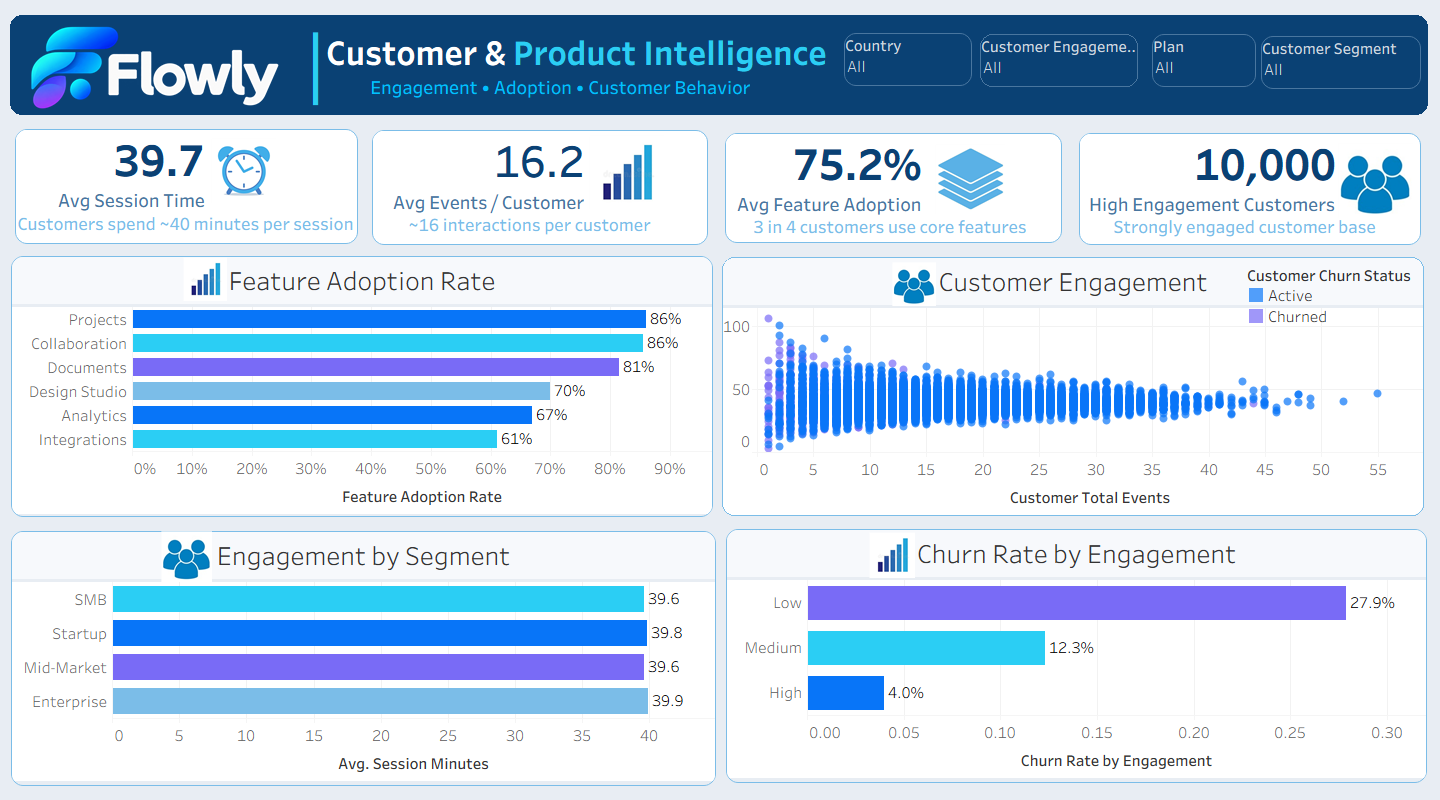

The page's visual inventory and layout, read from the dashboard file:
{"tool":"tableau","page":{"name":"Flowly Product Pulse","canvas":[1440,800],"ordinal":1},"visuals":[{"type":"image","param":"C:/Users/sneha/Downloads/Glossy Flowly Gradient Logo.png","box":[21.4,16,276.8,97]},{"type":"text","box":[291.4,19,121.5,87]},{"type":"text","box":[274,26,605,51]},{"type":"filter","title":"Customer Engagement","param":"[federated.186rmt7171jtv319xoaxd0jz2uva].[none:country:nk]","box":[844,33,128,53]},{"type":"filter","title":"Customer Engagement","param":"[federated.186rmt7171jtv319xoaxd0jz2uva].[none:Calculation_1554211411132417:nk]","box":[980,34,158,53]},{"type":"filter","title":"Customer Engagement","param":"[federated.186rmt7171jtv319xoaxd0jz2uva].[none:plan:nk]","box":[1152,34,104,53]},{"type":"filter","title":"Customer Engagement","param":"[federated.186rmt7171jtv319xoaxd0jz2uva].[none:customer_segment:nk]","box":[1261,36,160,53]},{"type":"text","box":[366.8,46,488.2,82]},{"type":"worksheet","title":"Avg Session Time","mark":"Text","box":[15,129,343,115]},{"type":"worksheet","title":"Avg Events per Customer","mark":"Text","box":[372,130,336,115]},{"type":"worksheet","title":"Avg Feature Adoption","mark":"Text","box":[725,133,337,110]},{"type":"worksheet","title":"High Engagement Customers","mark":"Text","box":[1079,133,342,112]},{"type":"image","param":"C:/Users/sneha/Downloads/P8.jpeg","box":[589,135,87,75]},{"type":"image","param":"C:/Users/sneha/Downloads/P6.jpeg","box":[211,138,77,65]},{"type":"image","param":"C:/Users/sneha/Downloads/P1.jpeg","box":[1338,143,75,76]},{"type":"image","param":"C:/Users/sneha/Downloads/P7.jpeg","box":[935,144,94,70]},{"type":"text","box":[405,209,249,30]},{"type":"text","box":[750,211,280,30]},{"type":"text","box":[1110,211,270,30]},{"type":"text","box":[14,212,340,23]},{"type":"worksheet","title":"Feature Adoption Rate","mark":"Automatic","rows":["feature_name"],"cols":["Calculation_0154532795826178"],"box":[11,256,702,261]},{"type":"image","param":"C:/Users/sneha/Downloads/P8.jpeg","box":[183,257,44,45]},{"type":"worksheet","title":"Customer Engagement","mark":"Circle","rows":["Calculation_0154532800147460"],"cols":["Calculation_0154532799500291"],"box":[722,257,702,259]},{"type":"image","param":"C:/Users/sneha/Downloads/P1.jpeg","box":[892,262,46,44]},{"type":"legend","title":"Customer Engagement","param":"[federated.186rmt7171jtv319xoaxd0jz2uva].[none:Calculation_0154532801515525:nk]","box":[1246,263,176,66]},{"type":"worksheet","title":"Churn Rate by Engagement","mark":"Automatic","rows":["Calculation_1554211411132417"],"cols":["Calculation_1554211422593027"],"box":[726,529,701,254]},{"type":"worksheet","title":"Engagement by Segment","mark":"Automatic","rows":["customer_segment"],"cols":["session_minutes"],"box":[11,531,705,255]},{"type":"image","param":"C:/Users/sneha/Downloads/P1.jpeg","box":[161,531,51,51]},{"type":"image","param":"C:/Users/sneha/Downloads/P8.jpeg","box":[869,532,46,47]}]}

Visuals, with their boxes in screenshot pixels (x1, y1, x2, y2), scaled from the page's 1440x800 canvas onto the 1440x800 screenshot:
image: select_region(21, 16, 298, 113)
text: select_region(291, 19, 413, 106)
text: select_region(274, 26, 879, 77)
"Customer Engagement" filter: select_region(844, 33, 972, 86)
"Customer Engagement" filter: select_region(980, 34, 1138, 87)
"Customer Engagement" filter: select_region(1152, 34, 1256, 87)
"Customer Engagement" filter: select_region(1261, 36, 1421, 89)
text: select_region(367, 46, 855, 128)
"Avg Session Time" worksheet (Text marks): select_region(15, 129, 358, 244)
"Avg Events per Customer" worksheet (Text marks): select_region(372, 130, 708, 245)
"Avg Feature Adoption" worksheet (Text marks): select_region(725, 133, 1062, 243)
"High Engagement Customers" worksheet (Text marks): select_region(1079, 133, 1421, 245)
image: select_region(589, 135, 676, 210)
image: select_region(211, 138, 288, 203)
image: select_region(1338, 143, 1413, 219)
image: select_region(935, 144, 1029, 214)
text: select_region(405, 209, 654, 239)
text: select_region(750, 211, 1030, 241)
text: select_region(1110, 211, 1380, 241)
text: select_region(14, 212, 354, 235)
"Feature Adoption Rate" worksheet: select_region(11, 256, 713, 517)
image: select_region(183, 257, 227, 302)
"Customer Engagement" worksheet (Circle marks): select_region(722, 257, 1424, 516)
image: select_region(892, 262, 938, 306)
"Customer Engagement" legend: select_region(1246, 263, 1422, 329)
"Churn Rate by Engagement" worksheet: select_region(726, 529, 1427, 783)
"Engagement by Segment" worksheet: select_region(11, 531, 716, 786)
image: select_region(161, 531, 212, 582)
image: select_region(869, 532, 915, 579)
